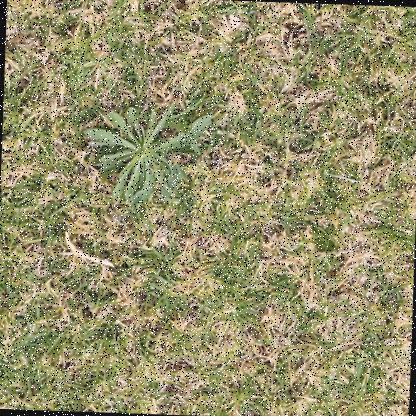Weeds: (81, 101, 214, 208)
